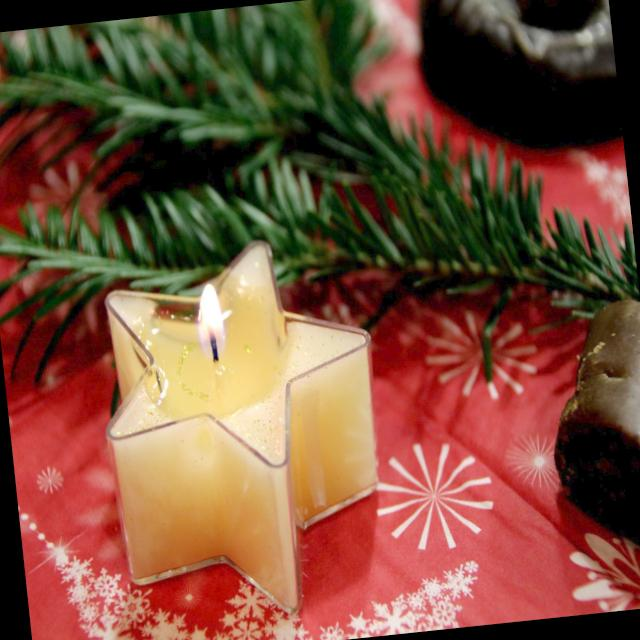Fire_Save: (86, 227, 398, 632)
